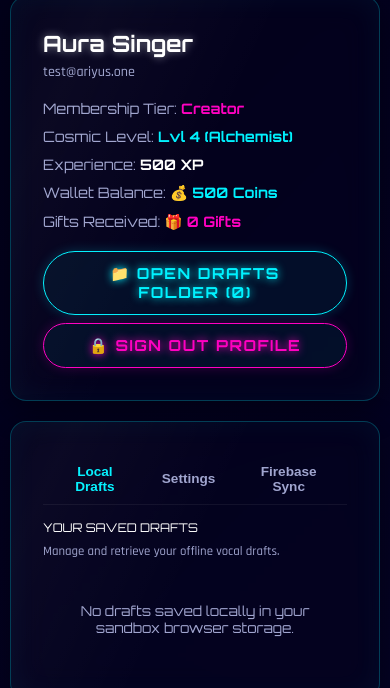
it: Ariyus-One VST Integration & Mobile Settings tests › Mobile wrapper settings render inside settings panel tab
# Switch to settings tab
Click the button "Settings": x=189, y=478 [147, 454, 230, 504]
(page scrolled)
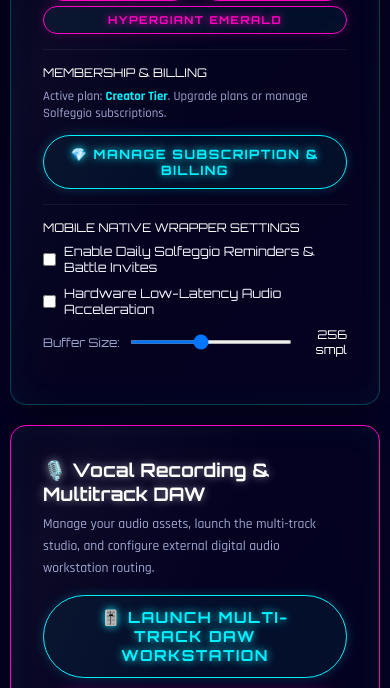
Expected: the text "Mobile Native Wrapper Settings" is shown, [43, 220, 300, 235]
Expected: the text "Enable Daily Solfeggio Reminders & Battle Invites" is shown, [43, 243, 347, 275]
Expected: the text "Hardware Low-Latency Audio Acceleration" is shown, [43, 285, 281, 317]
